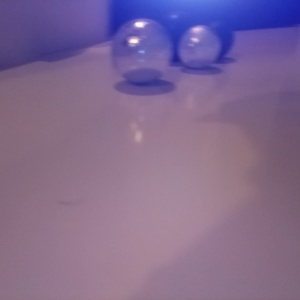alive_ball: (273, 261, 300, 300)
dead_ball: (219, 152, 300, 287), (1, 263, 136, 300)
